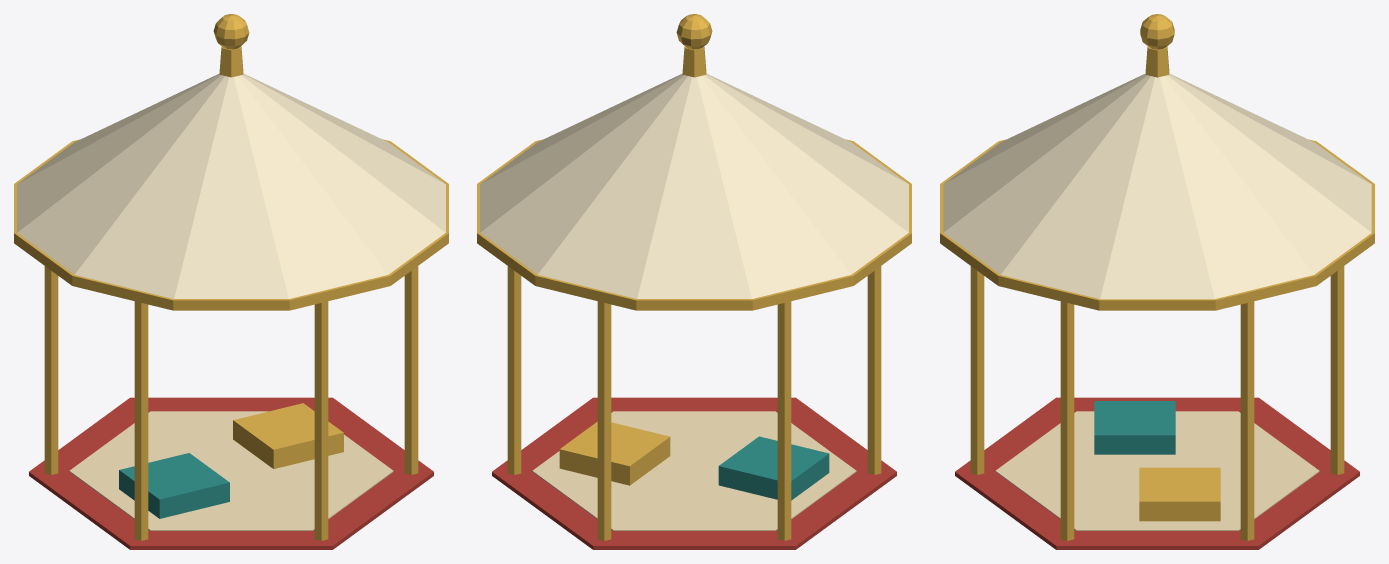
The model's file is b-pavilion.glb.
The picture shows the model from 3 angles, left to right: view 1: azimuth 30°, elevation 25°; view 2: azimuth 150°, elevation 25°; view 3: azimuth 270°, elevation 25°; orthographic projection.
Visible parts, largest first — view 1: b-pavilion; view 2: b-pavilion; view 3: b-pavilion.
Boxes of the visible parts, <box> form: b-pavilion: <box>14,14,448,549</box>; b-pavilion: <box>477,14,911,549</box>; b-pavilion: <box>940,14,1374,549</box>.
Size of the model in its own units: 1.93 by 2.26 by 1.93.
